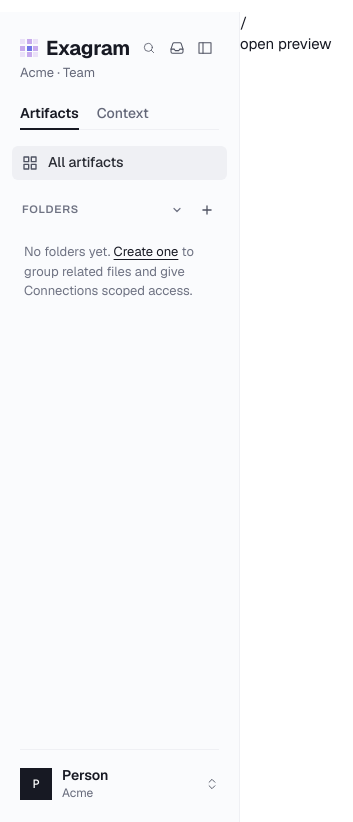
Test: AppShell sidebar › keeps the whole sidebar in place when a preview opens
What coordinates should you click on to do the following:
click the button "open preview"
I would click on:
 (286, 44)
Its box is [240,33,332,54].
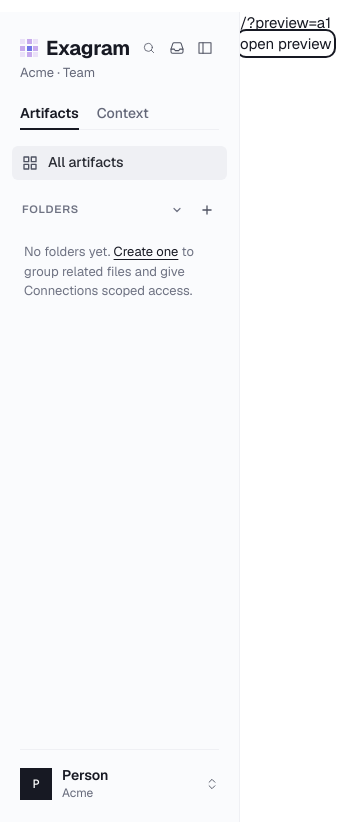
Expected: the navigation bar named "Sections" is shown, [20,98,149,130]
Now the text with test id "where" reads "/?preview=a1", box [240,13,331,32]
